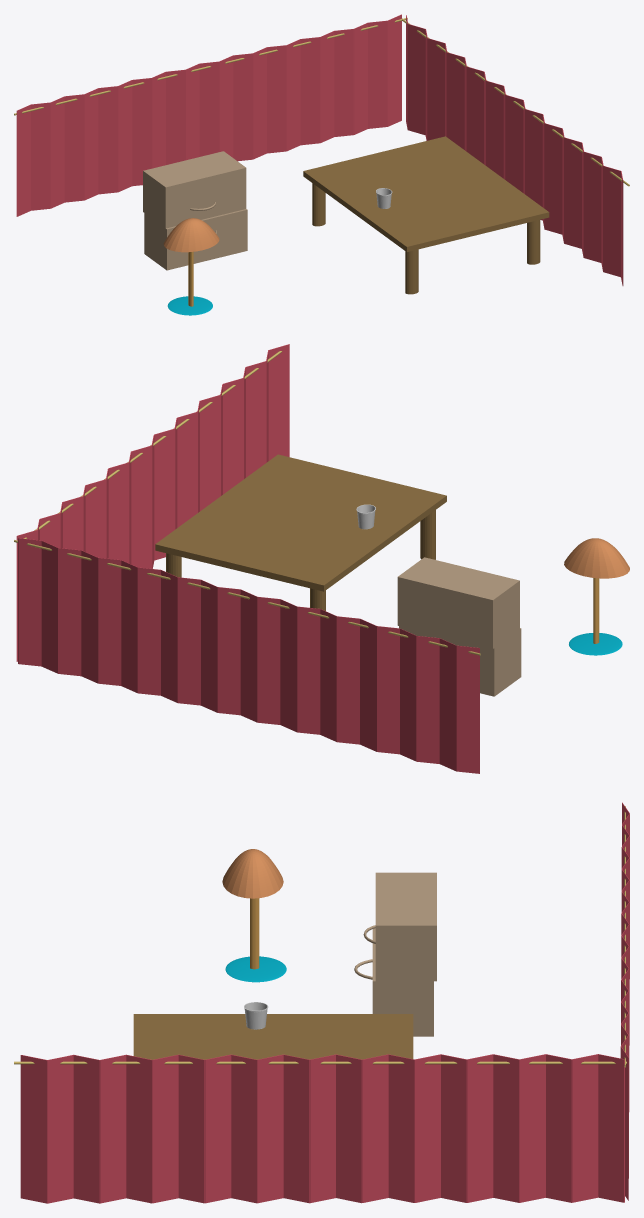
File: Stunning Migelo.glb
The picture shows the model from 3 angles, top to bottom: view 1: azimuth 30°, elevation 25°; view 2: azimuth 150°, elevation 25°; view 3: azimuth 270°, elevation 25°; orthographic projection. The views are drawn at different scales.
Parts seen in each view (by area): view 1: Mesh_Mesh_head_geo.001_lambert2SG.001; view 2: Mesh_Mesh_head_geo.001_lambert2SG.001; view 3: Mesh_Mesh_head_geo.001_lambert2SG.001.
Part boxes in pixels (box(x1,y1,x2,y2)): Mesh_Mesh_head_geo.001_lambert2SG.001: box(14, 14, 629, 315); Mesh_Mesh_head_geo.001_lambert2SG.001: box(14, 344, 629, 773); Mesh_Mesh_head_geo.001_lambert2SG.001: box(14, 802, 629, 1203).
Size of the model in its own units: 200 by 51.6 by 201.
